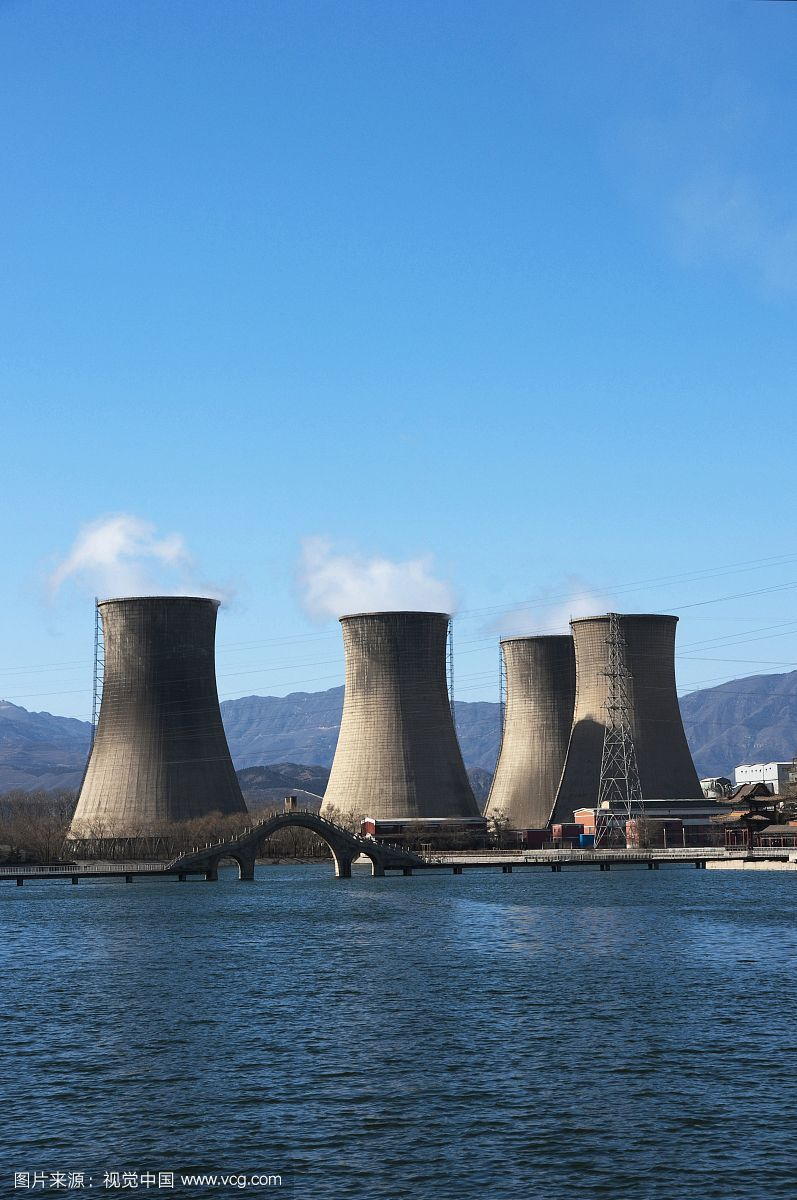dust: (73, 474, 242, 622), (271, 528, 482, 639)
